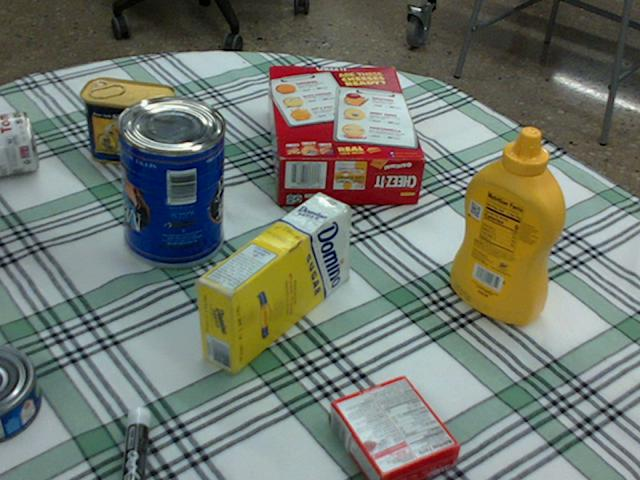cracker_box: (266, 66, 424, 203)
gelatin_box: (328, 376, 457, 479)
large_marker: (119, 406, 148, 479)
master_chef_can: (114, 96, 223, 268)
mustard_bottle: (449, 127, 564, 324)
potted_meat_can: (81, 78, 175, 167)
sugar_box: (194, 193, 349, 374)
tomato_soup_can: (0, 111, 36, 174)
tuna_fish_can: (0, 344, 37, 438)
